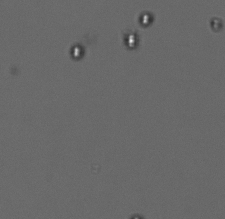Dead Cell: (205, 15, 224, 32)
Living Cell: (137, 10, 155, 28), (68, 42, 85, 60), (122, 31, 137, 49)
